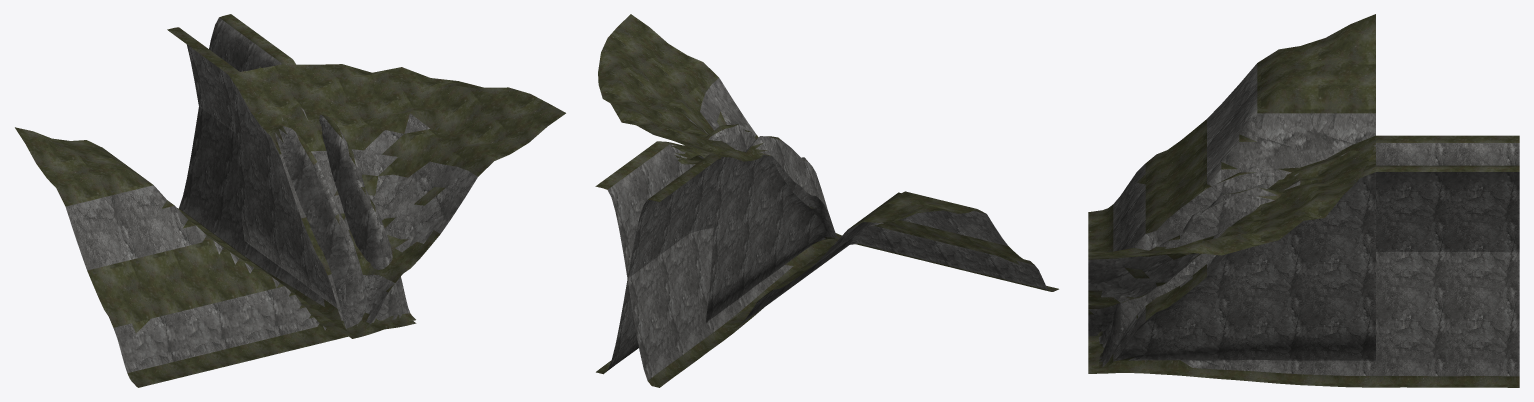
File: bk_coast_land_summer.glb
3 renders of one model, left to right at view 1: azimuth 30°, elevation 25°; view 2: azimuth 150°, elevation 25°; view 3: azimuth 270°, elevation 25°, orthographic. The views are drawn at different scales.
Visible parts, largest first — view 1: corner_inner, corner_outer, endcap_sea_to_land, endcap_land_to_sea, pass12, straight12_a, straight6; view 2: endcap_sea_to_land, corner_outer, pass12, corner_inner, endcap_land_to_sea, straight12_a; view 3: endcap_land_to_sea, pass12, corner_inner, endcap_sea_to_land, corner_outer, straight12_a.
Part boxes in pixels (<box>): corner_inner: <box>15,127,351,387</box>; corner_outer: <box>229,64,565,335</box>; endcap_sea_to_land: <box>179,14,411,338</box>; endcap_land_to_sea: <box>167,27,416,331</box>; pass12: <box>229,76,415,335</box>; straight12_a: <box>240,60,414,333</box>; straight6: <box>246,67,376,325</box>; endcap_sea_to_land: <box>595,124,837,387</box>; corner_outer: <box>598,14,841,239</box>; pass12: <box>705,157,836,322</box>; corner_inner: <box>722,191,1058,328</box>; endcap_land_to_sea: <box>596,136,839,374</box>; straight12_a: <box>660,141,815,208</box>; endcap_land_to_sea: <box>1088,135,1519,387</box>; pass12: <box>1088,172,1375,369</box>; corner_inner: <box>1088,14,1375,251</box>; endcap_sea_to_land: <box>1099,165,1519,368</box>; corner_outer: <box>1088,135,1375,337</box>; straight12_a: <box>1089,146,1375,369</box>.
Bounding box in the file's own units: 80 × 33.26 × 60.
Materials: 2 (2 with a texture image).
